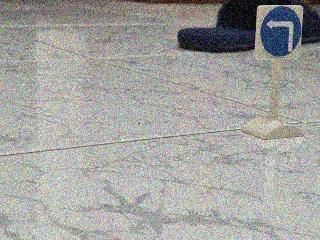left: (255, 3, 304, 60)
